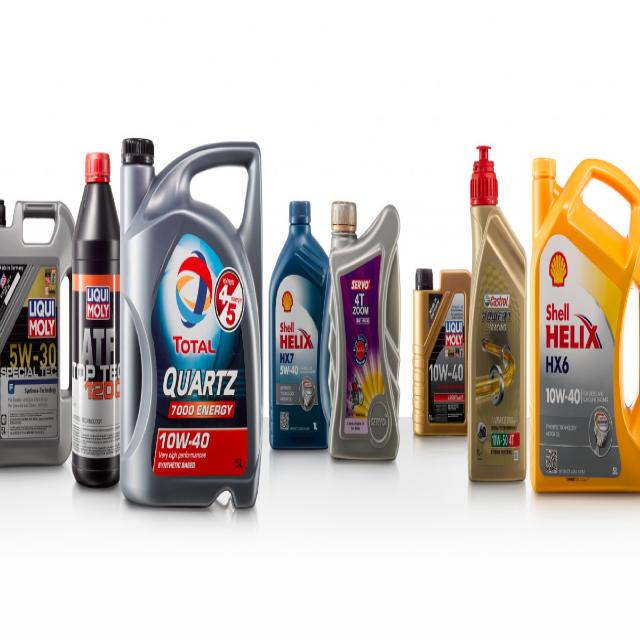motor_oil: (121, 132, 266, 536), (530, 153, 640, 507), (410, 258, 470, 432)
